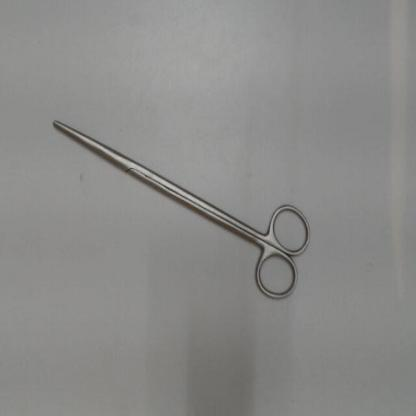9 Metzenbaum Scissors: (50, 114, 318, 306)
